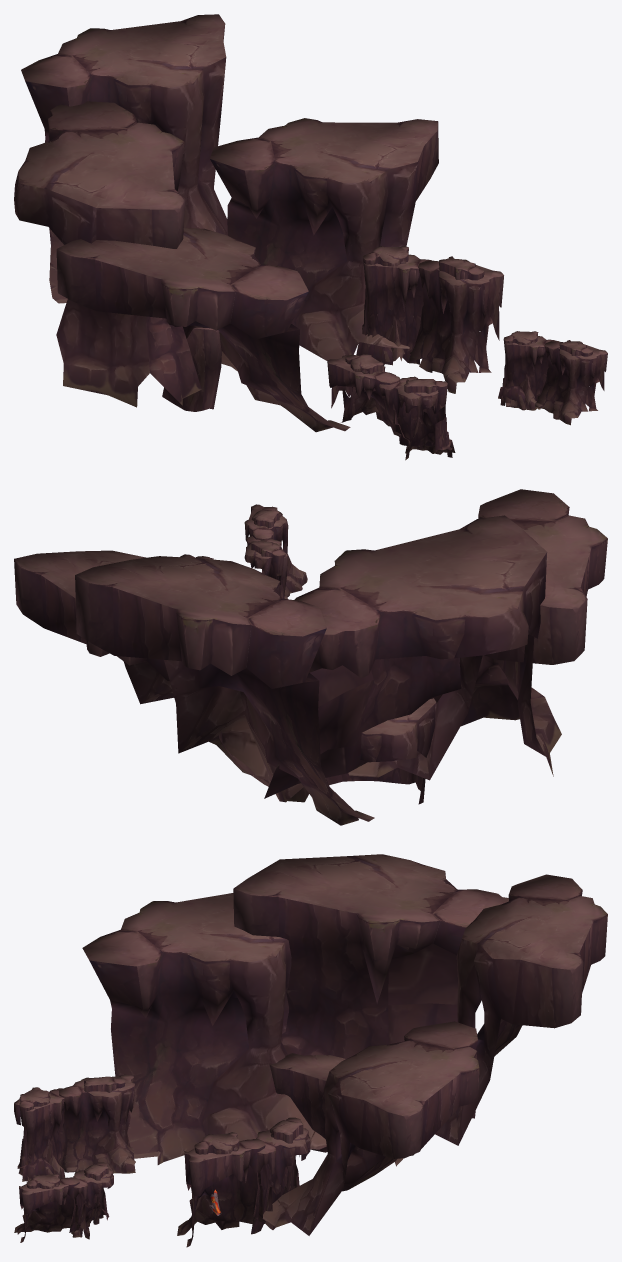
File: boss3_1.fbx
3 renders of one model, top to bottom at view 1: azimuth 30°, elevation 25°; view 2: azimuth 150°, elevation 25°; view 3: azimuth 270°, elevation 25°, orthographic. The views are drawn at different scales.
Parts seen in each view (by area): view 1: boss3_1; view 2: boss3_1; view 3: boss3_1.
Part boxes in pixels (x1,y1,x2,y2): boss3_1: (14, 14, 607, 460); boss3_1: (14, 489, 607, 825); boss3_1: (14, 854, 607, 1247).
Bounding box in the file's own units: 2218 × 1242 × 2585.
